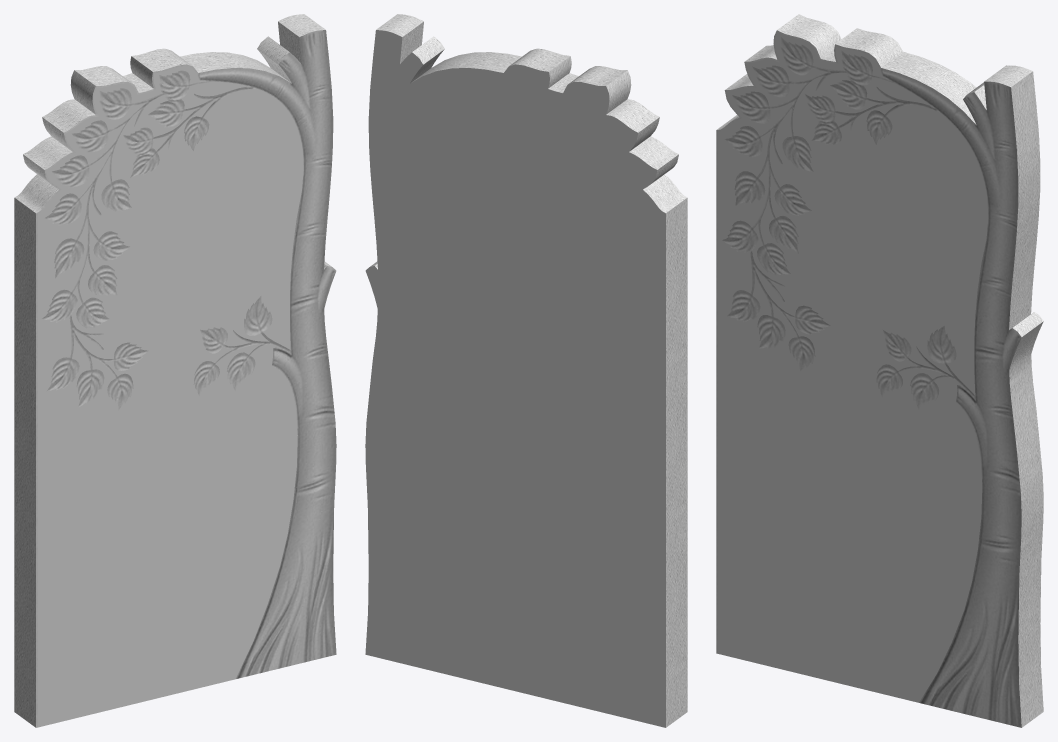
File: cnacc4e52b9b_tkf.glb
The picture shows the model from 3 angles, left to right: view 1: azimuth 30°, elevation 25°; view 2: azimuth 150°, elevation 25°; view 3: azimuth 330°, elevation 25°; orthographic projection.
Visible parts, largest first — view 1: Pam-d03-163, Pam-d03-163_2_notexture; view 2: Pam-d03-163, Pam-d03-163_2_notexture; view 3: Pam-d03-163, Pam-d03-163_2_notexture.
Part boxes in pixels (<box>): Pam-d03-163: <box>37,66,303,727</box>; Pam-d03-163_2_notexture: <box>14,14,336,727</box>; Pam-d03-163: <box>365,30,665,727</box>; Pam-d03-163_2_notexture: <box>370,14,687,727</box>; Pam-d03-163: <box>717,32,988,702</box>; Pam-d03-163_2_notexture: <box>716,14,1043,727</box>.
Bounding box in the file's own units: 0.4 × 0.8 × 0.05.
1 material, 1 textured.
